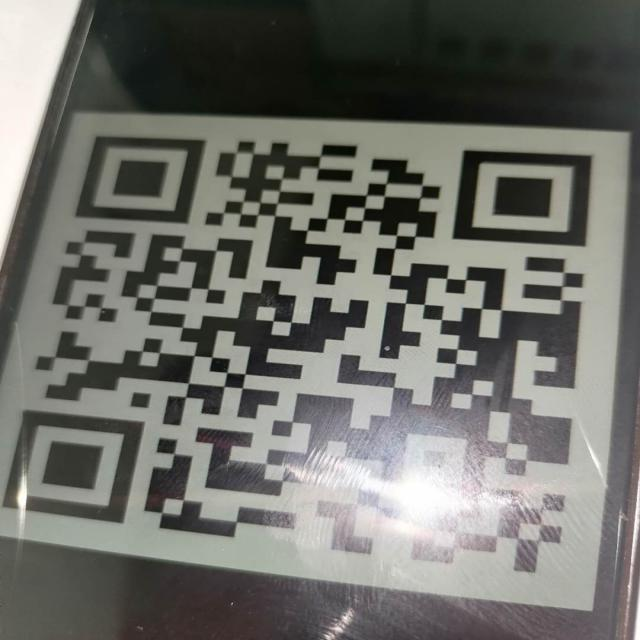qr_code: (0, 134, 595, 578)
